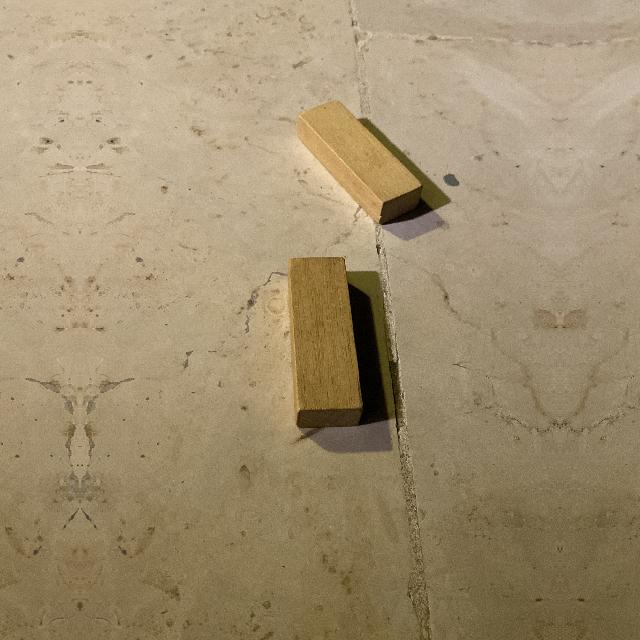jenga: (297, 100, 423, 225), (288, 257, 365, 430)
